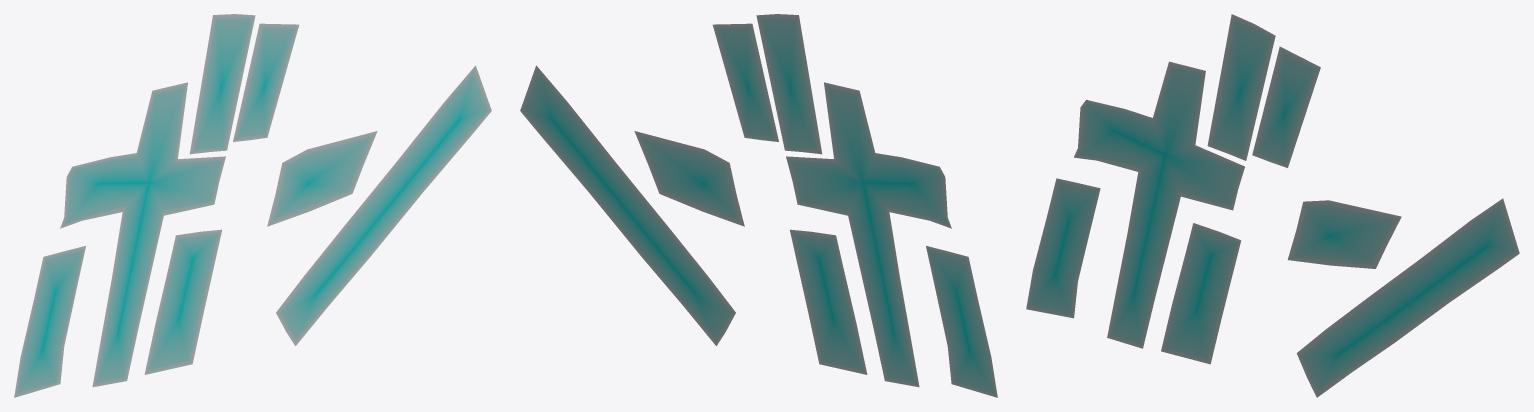
Rendered from SM_EFF_Text_D34NJ4_01.glb.
3 views of the same model, side by side, from view 1: azimuth 30°, elevation 25°; view 2: azimuth 150°, elevation 25°; view 3: azimuth 330°, elevation 25° (orthographic). The views are drawn at different scales.
Visible parts, largest first — view 1: SM_EFF_Text_D34NJ4_01; view 2: SM_EFF_Text_D34NJ4_01; view 3: SM_EFF_Text_D34NJ4_01.
Part boxes in pixels (x1=…): SM_EFF_Text_D34NJ4_01: x1=14, y1=14, x2=491, y2=397; SM_EFF_Text_D34NJ4_01: x1=520, y1=14, x2=997, y2=397; SM_EFF_Text_D34NJ4_01: x1=1026, y1=14, x2=1519, y2=397.
Size of the model in its own units: 4.15 by 2.91 by 1.78e-16.
